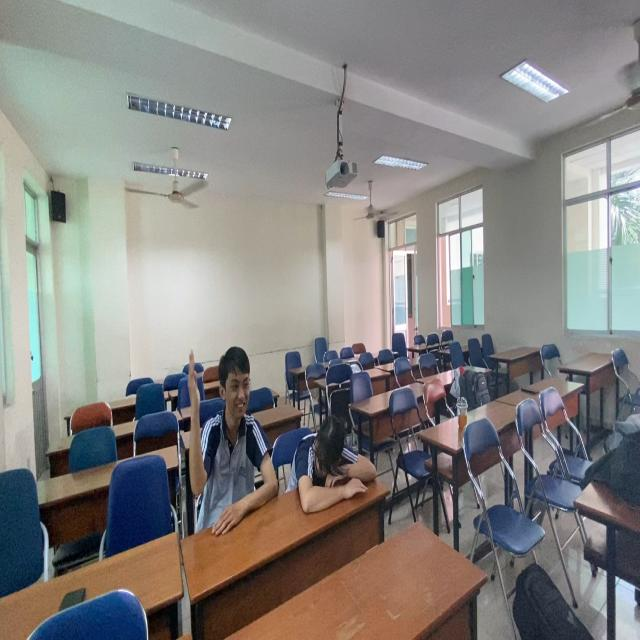raise_hand: (185, 343, 284, 536)
sleep: (287, 410, 383, 527)
